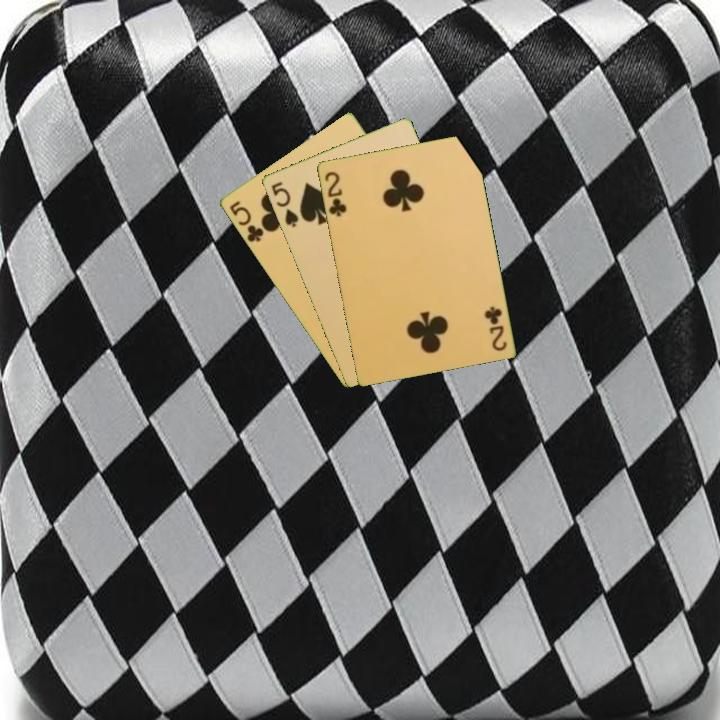2c: (481, 302, 509, 354), (321, 168, 349, 219)
5c: (226, 197, 266, 245)
5s: (267, 178, 301, 230)
